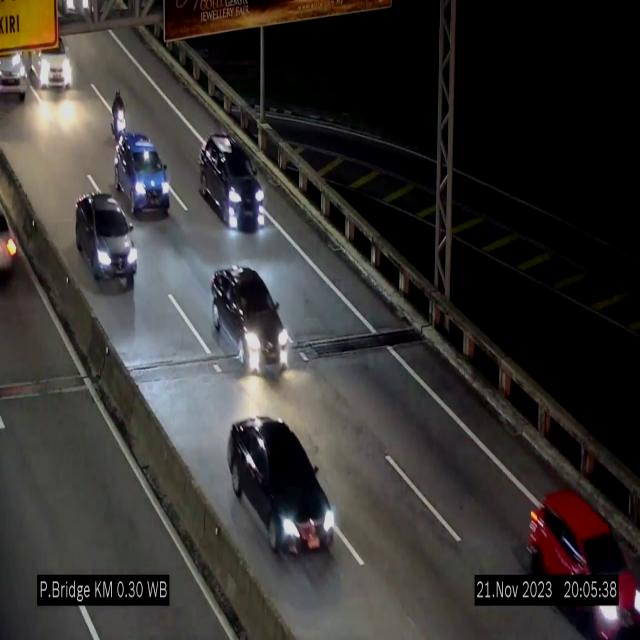Car: (228, 417, 336, 555), (209, 260, 293, 380), (199, 133, 265, 228), (75, 193, 137, 286), (114, 132, 170, 216), (31, 26, 76, 91), (0, 52, 29, 108)
Motorcycle: (108, 87, 126, 148)
